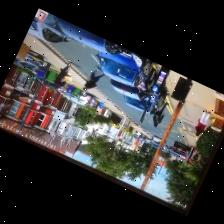person: (83, 68, 103, 89), (55, 59, 72, 82), (195, 109, 209, 135), (153, 102, 168, 126), (96, 101, 103, 112)
